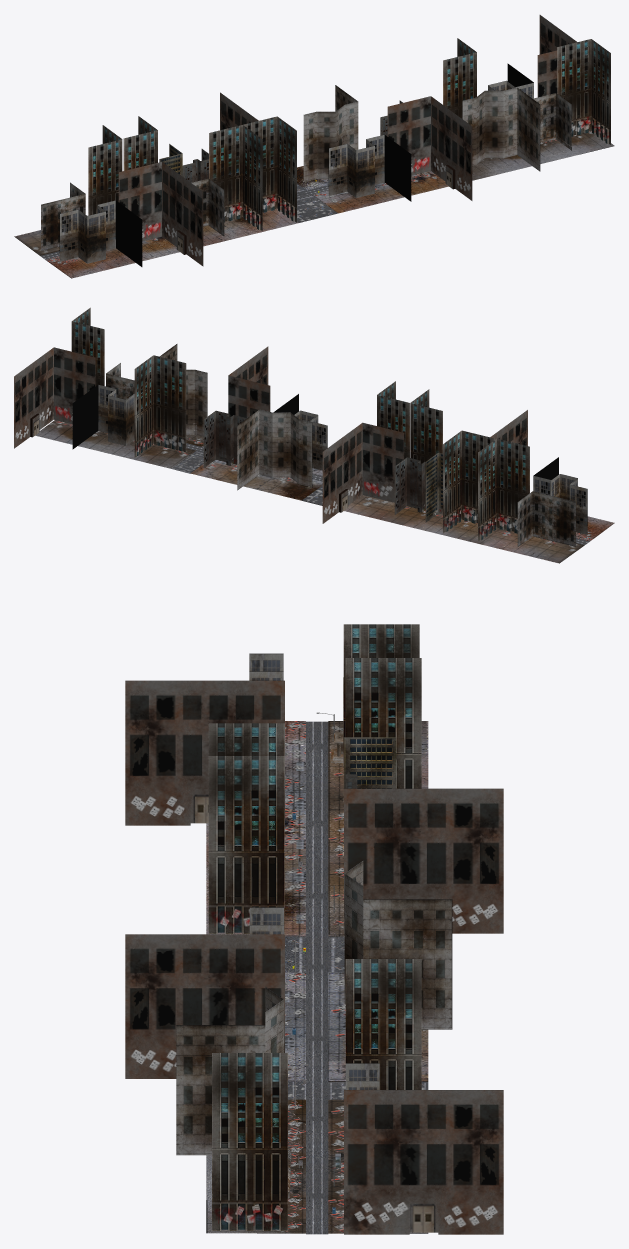
Rendered from StraightPatch1.fbx.
3 views of the same model, one above another, from view 1: azimuth 30°, elevation 25°; view 2: azimuth 150°, elevation 25°; view 3: azimuth 270°, elevation 25° (orthographic). The views are drawn at different scales.
Visible parts, largest first — view 1: polySurface21; view 2: polySurface21; view 3: polySurface21, cityPatch_Fin_011:road_geo1.
Boxes of the visible parts, x1,y1,x2,y2 form: polySurface21: [14, 15, 614, 278]; polySurface21: [14, 307, 614, 563]; polySurface21: [125, 624, 503, 1234]; cityPatch_Fin_011:road_geo1: [306, 721, 328, 1234].
Size of the model in its own units: 76914 by 12514 by 23934.
